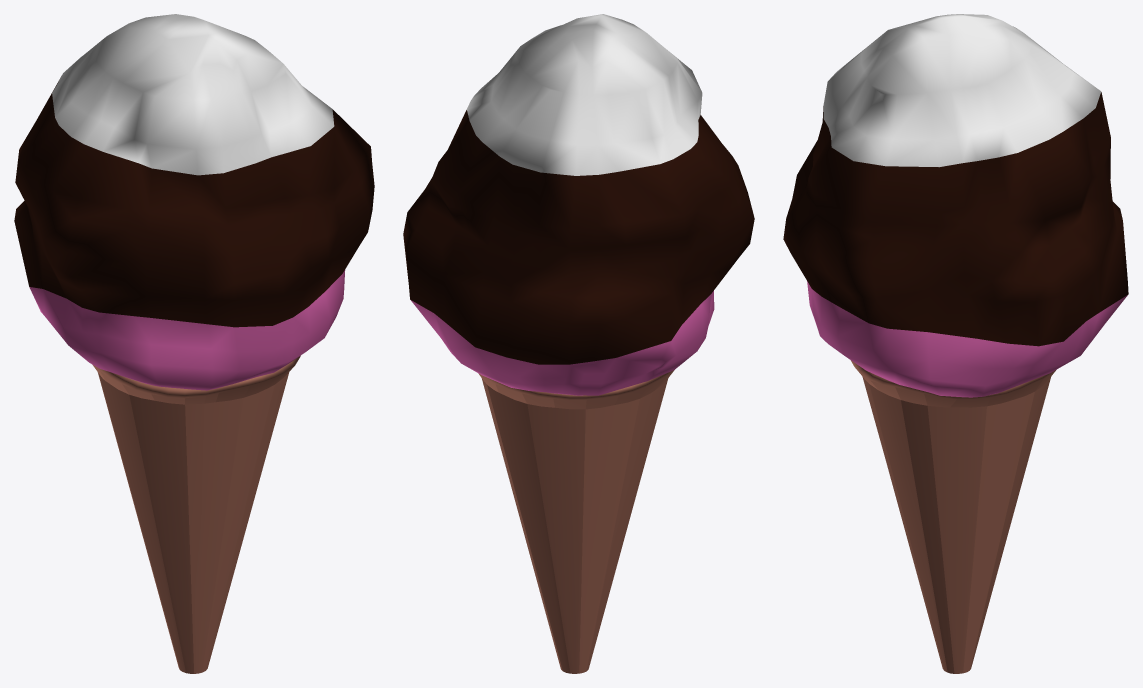
The model's file is level22.fbx.
3 views of the same model, side by side, from view 1: azimuth 30°, elevation 25°; view 2: azimuth 150°, elevation 25°; view 3: azimuth 270°, elevation 25° (orthographic).
Parts seen in each view (by area): view 1: polySurface110, polySurface111; view 2: polySurface110, polySurface111; view 3: polySurface110, polySurface111.
Part boxes in pixels (left/top/right/bottom): polySurface110: left=14, top=14, right=374, bottom=390; polySurface111: left=92, top=356, right=300, bottom=673; polySurface110: left=403, top=14, right=754, bottom=395; polySurface111: left=478, top=370, right=674, bottom=673; polySurface110: left=783, top=14, right=1128, bottom=397; polySurface111: left=851, top=360, right=1056, bottom=673.
Size of the model in its own units: 13.93 by 29.43 by 14.25.
